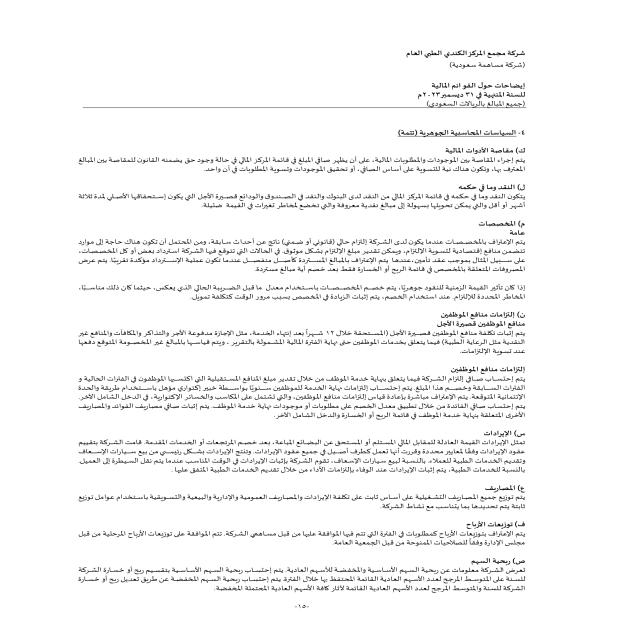notes: (424, 79, 532, 89)
text: (66, 120, 531, 606)
